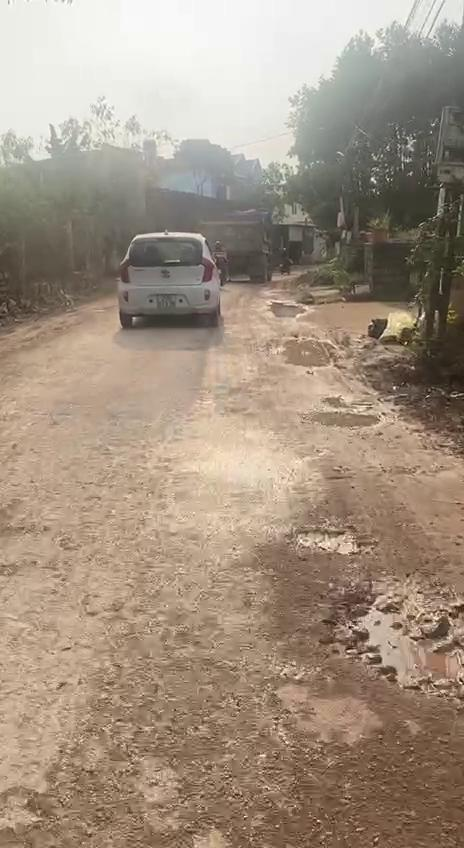pothole: (323, 577, 464, 701), (290, 519, 365, 555), (266, 333, 337, 369), (300, 408, 380, 432), (265, 298, 306, 319)
